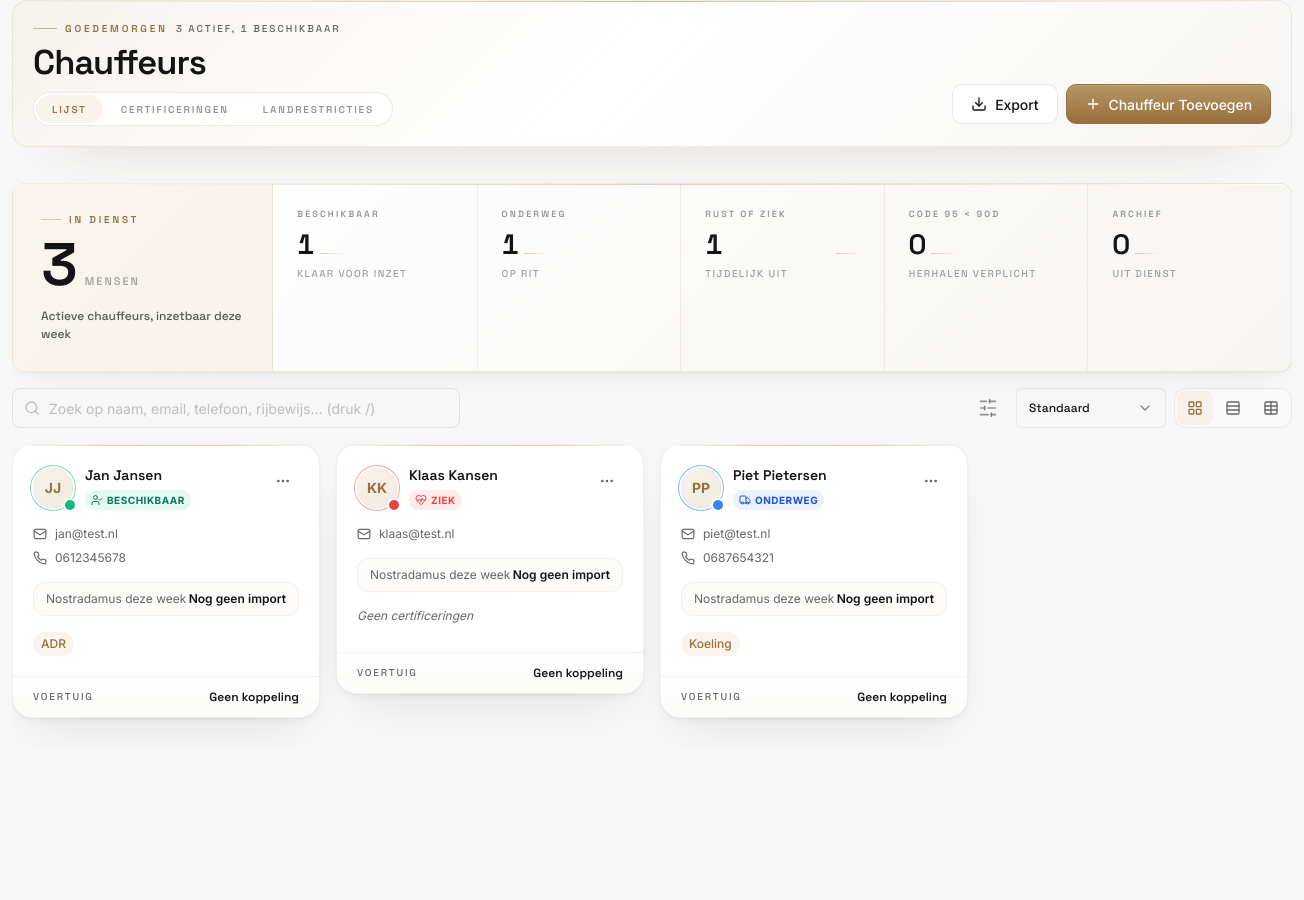
Scenario: Chauffeurs › filters by license number search
Type "RB123456" into the field with placeholder "Zoek op naam, email, telefoon, rijbewijs... (druk /)" at {"x": 236, "y": 408}, box [12,388,460,428]
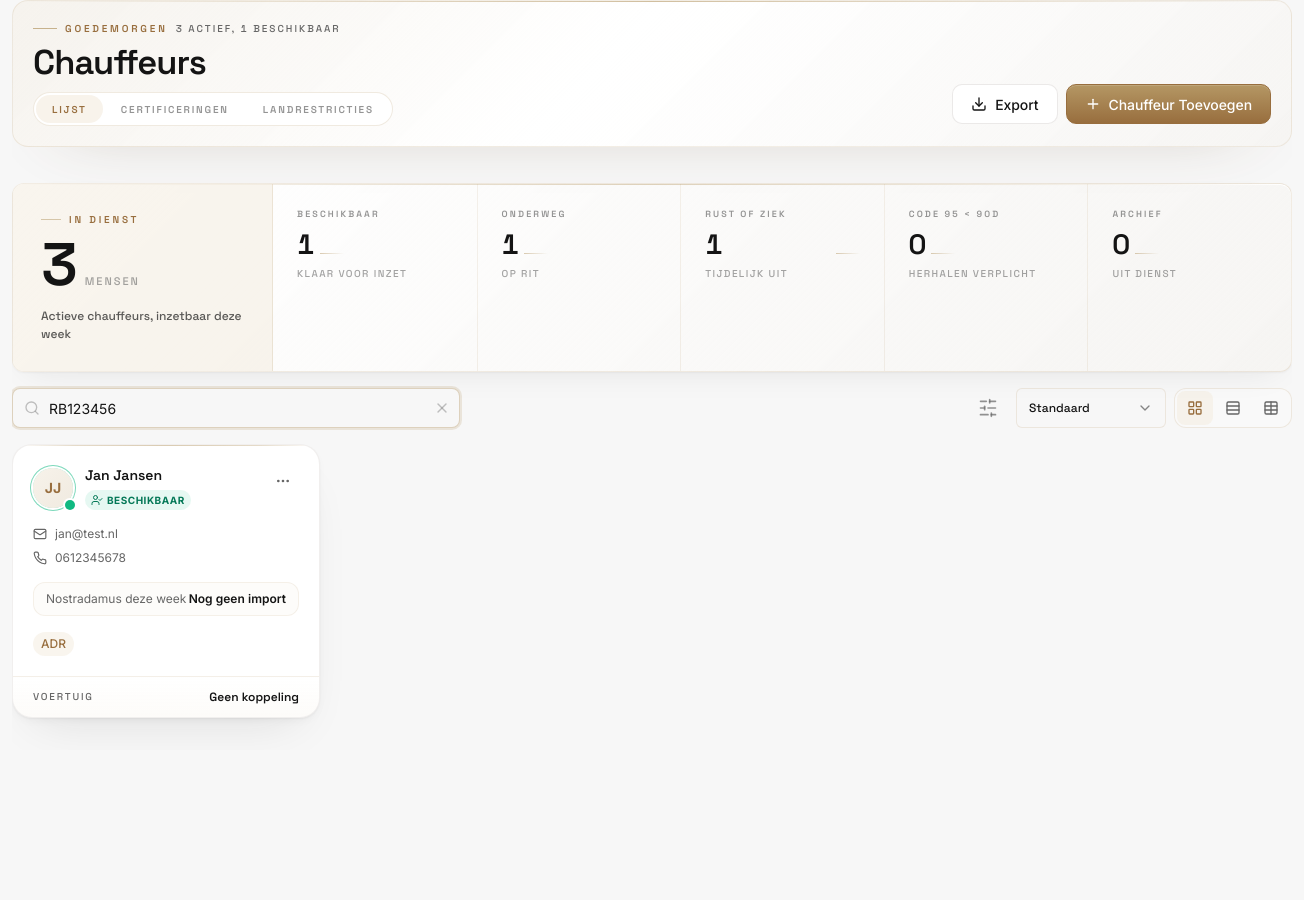
Expected: the heading "Jan Jansen" is shown, [85,466,162,484]
Result: the heading "Piet Pietersen" is gone
